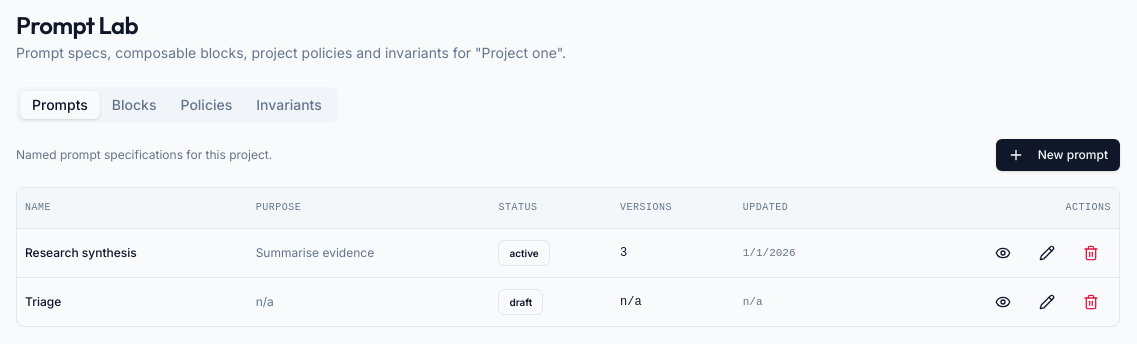
Test: invariants tab renders rows with code, severity and enforcement
Click the tab with test id "prompt-lab-tab-invariants" at (289, 105), box top-left (244, 91), bottom-right (334, 119)
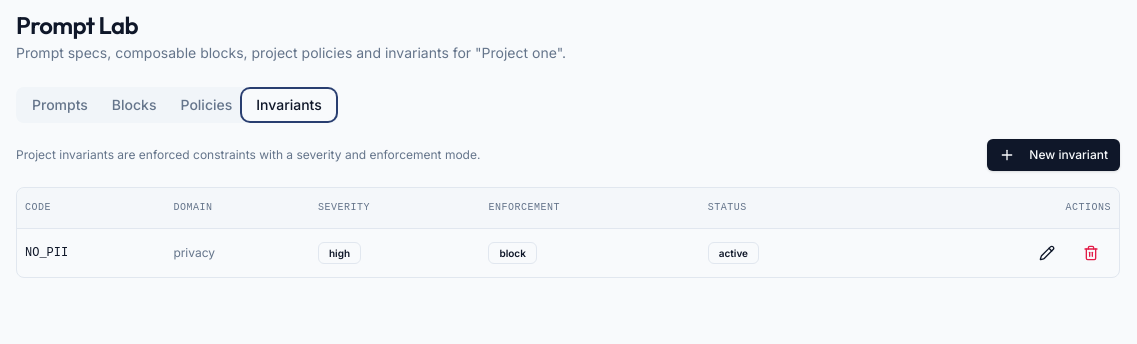
Expected: the text "NO_PII" is shown, top-left (17, 228), bottom-right (165, 276)
Expected: the text "high" is shown, top-left (318, 242), bottom-right (361, 264)
Expected: the text "block" is shown, top-left (488, 242), bottom-right (537, 264)
